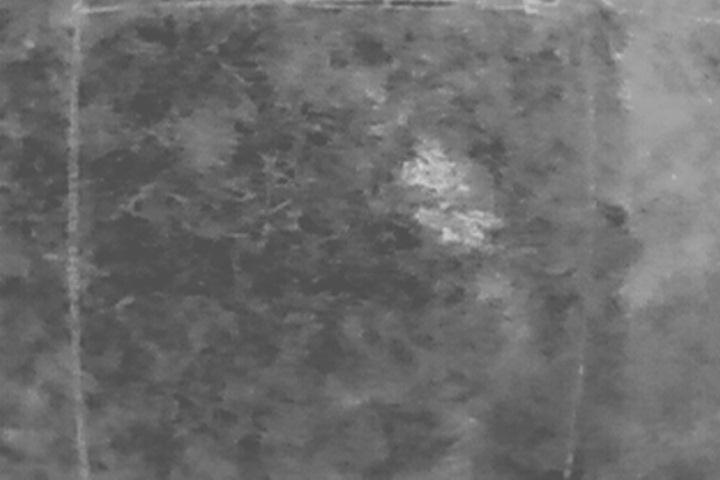landmine: (407, 159, 453, 186)
